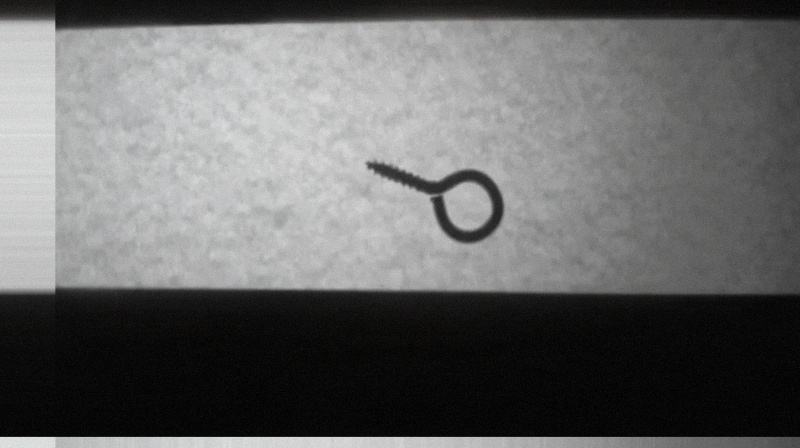O001: (361, 154, 508, 247)
